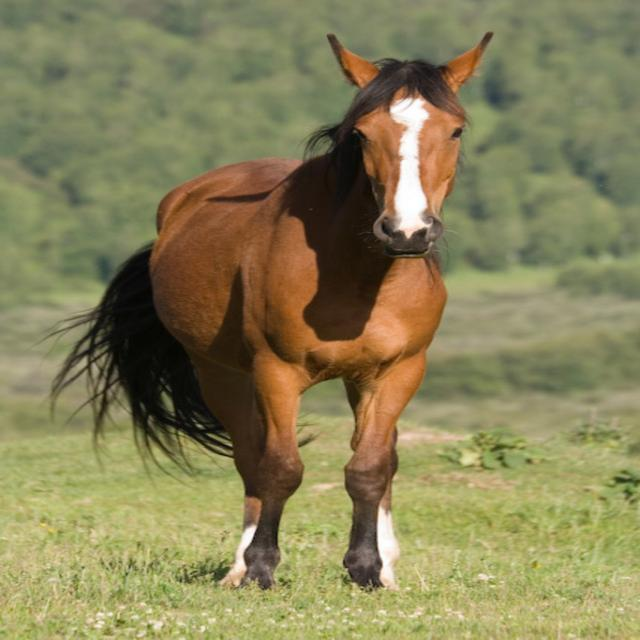Horse: (27, 31, 495, 588)
